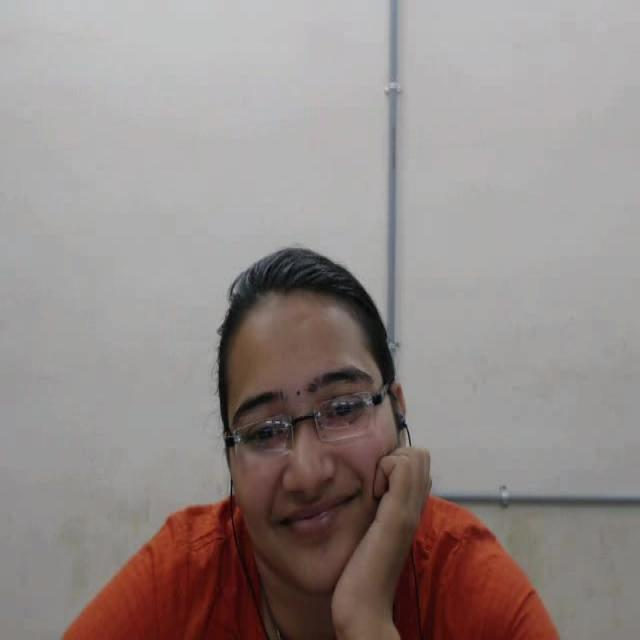Bored: (156, 219, 463, 640)
